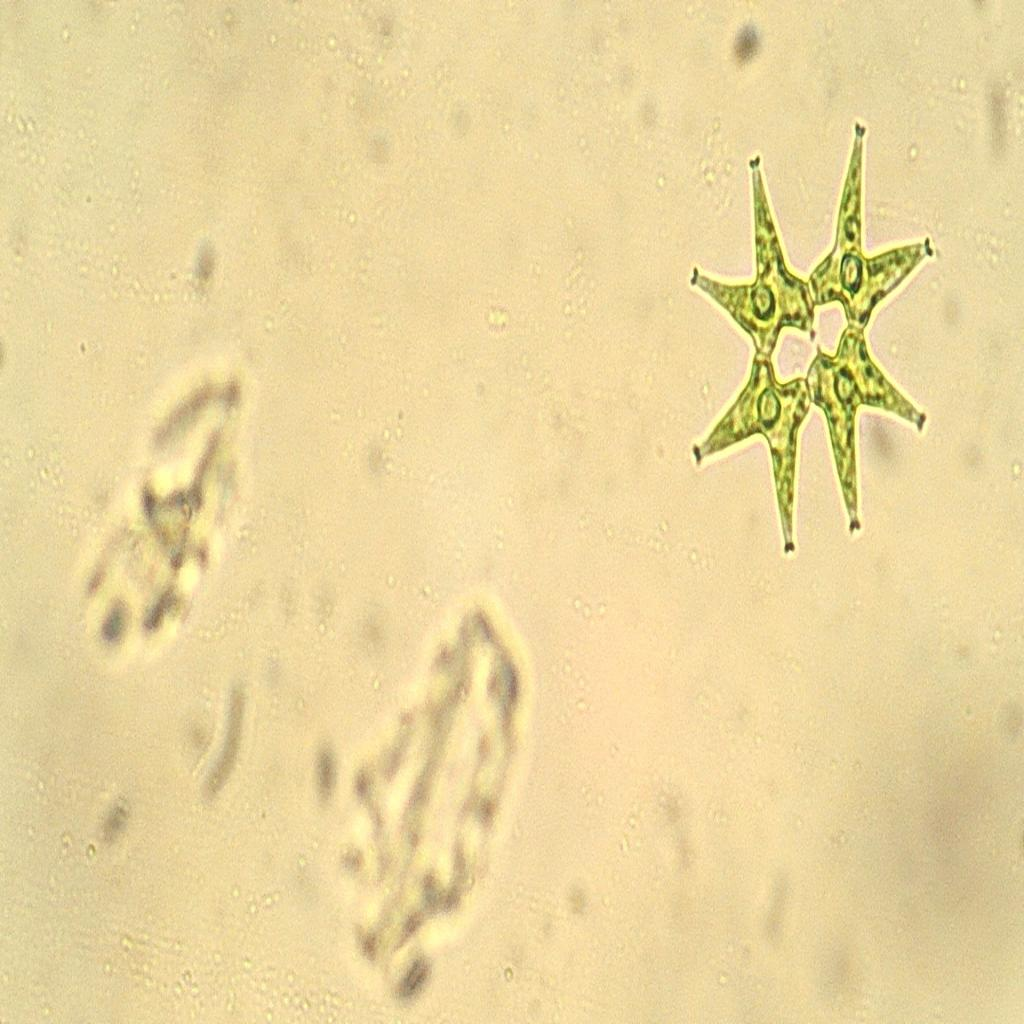Pediastrum_CF: (669, 114, 947, 572)
